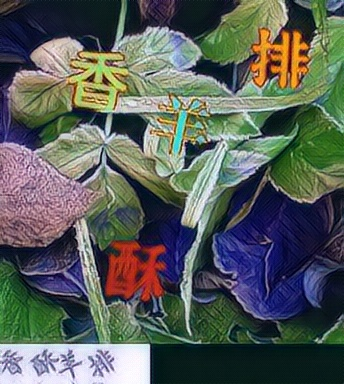C5C5: (246, 27, 311, 91)
CBD6: (103, 238, 168, 302)
CFE3: (65, 50, 130, 114)
D1F2: (144, 92, 209, 156)
